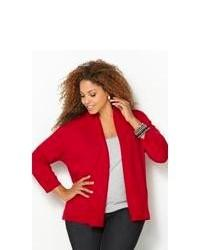C_cardigan sweater: (36, 110, 168, 229)
